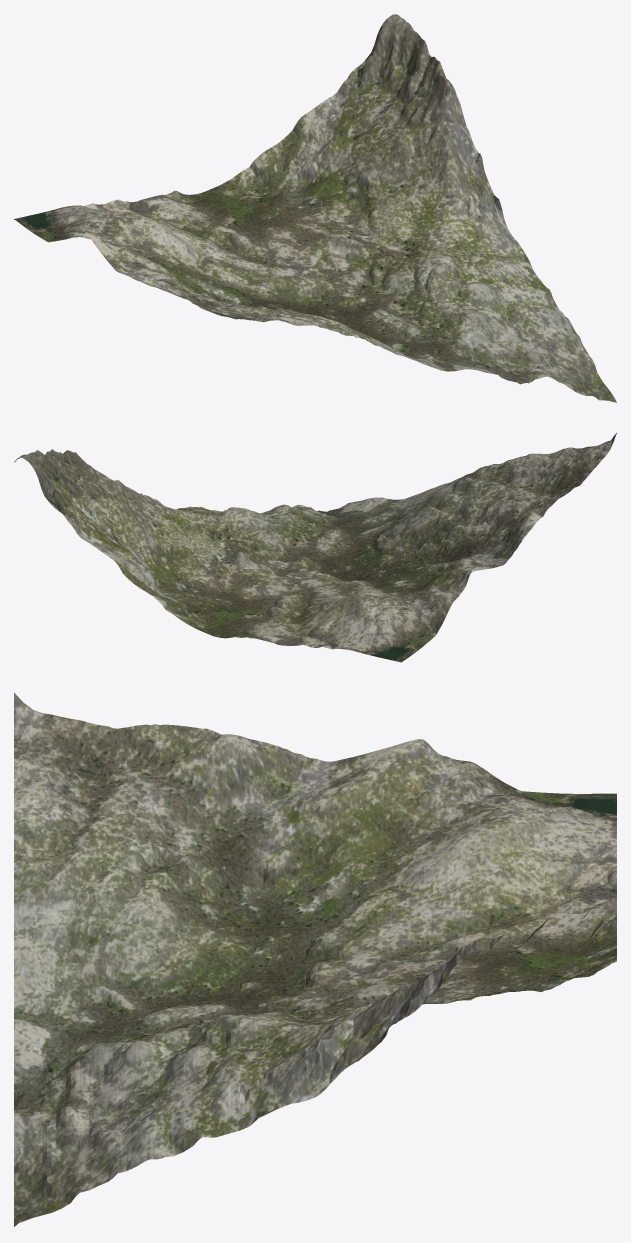
3 views of the same model, one above another, from view 1: azimuth 30°, elevation 25°; view 2: azimuth 150°, elevation 25°; view 3: azimuth 270°, elevation 25° (orthographic). The views are drawn at different scales.
Size of the model in its own units: 1000 by 576 by 963.
Materials: 1 (1 with a texture image).
